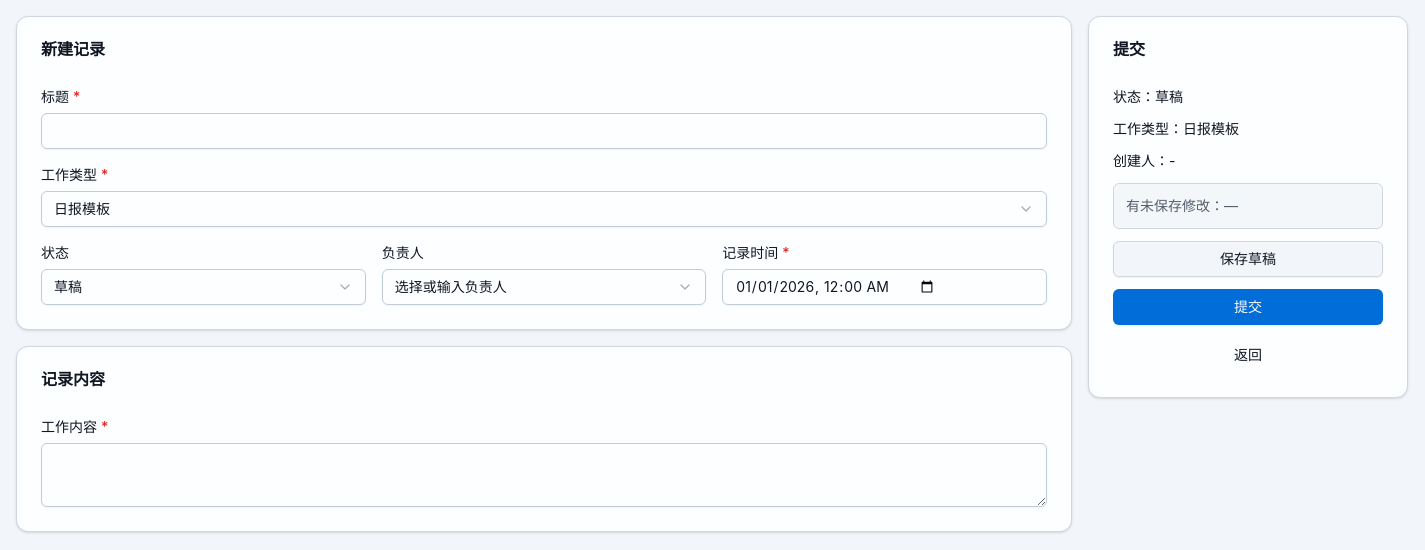
Test case: record runtime pages › new record page renders form
The image size is (1425, 550).
Expected: the text "新建记录" is shown, [41,39,105,59]
Expected: the text "日报模板" is shown, [54,199,110,219]
Click the dropdown labelled "选择或输入负责人". click: coordinates (451, 286)
box: [382,269,706,305]
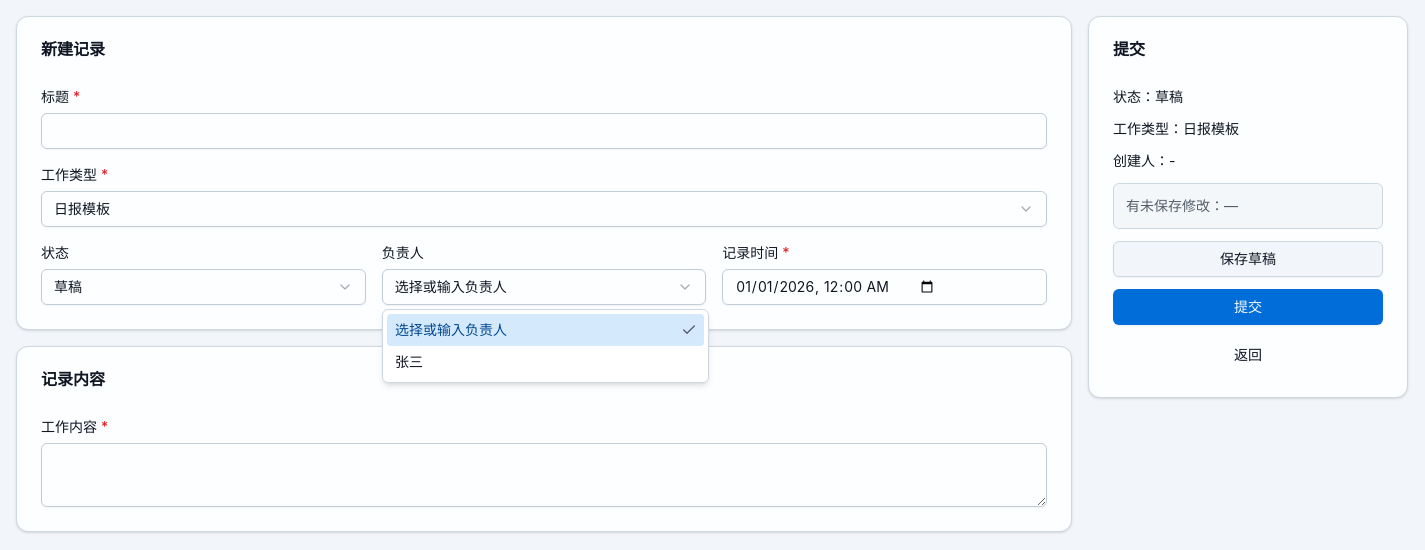
Expected: the text "张三" is shown, [395,352,423,372]
